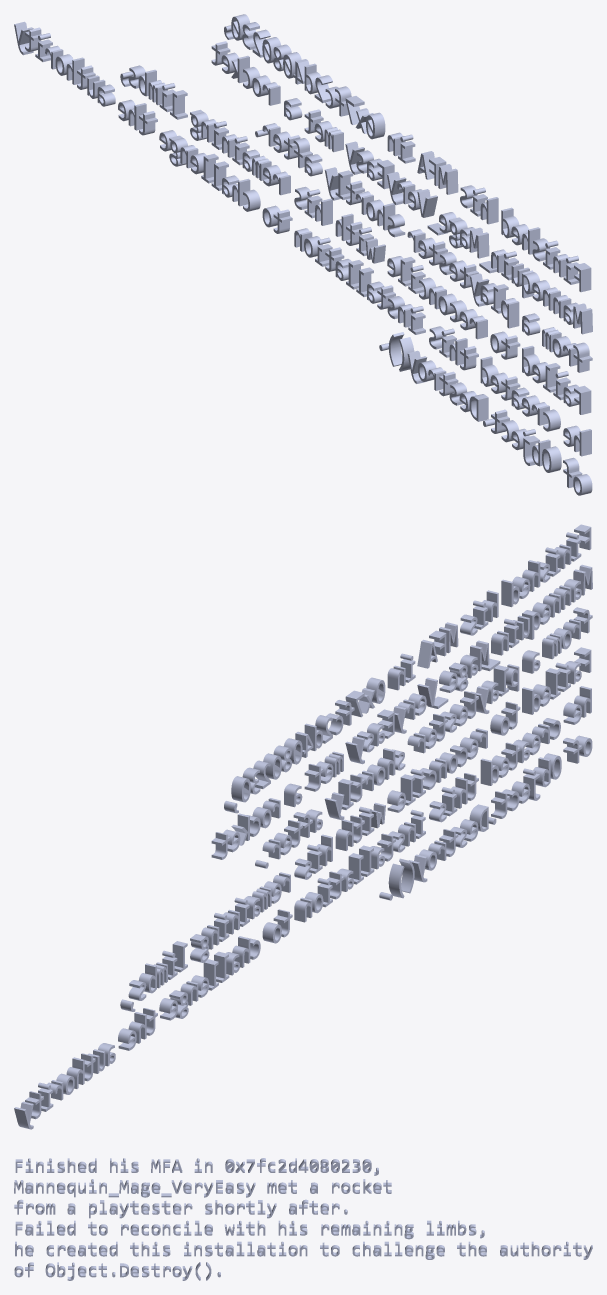
3 renders of one model, top to bottom at view 1: azimuth 30°, elevation 25°; view 2: azimuth 150°, elevation 25°; view 3: azimuth 270°, elevation 25°, orthographic. The views are drawn at different scales.
Size of the model in its own units: 0.5 by 10.76 by 46.95.
